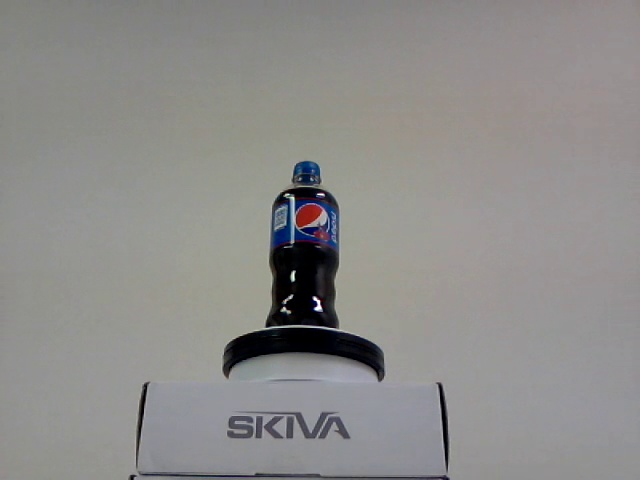botolplastik: (271, 162, 338, 325)
